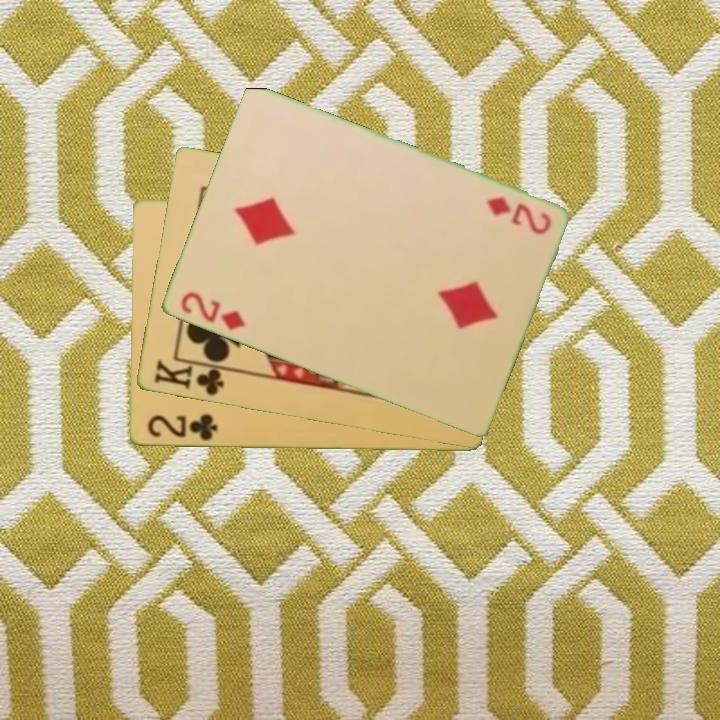2c: (143, 411, 219, 444)
2d: (176, 288, 248, 334), (482, 193, 554, 238)
Kc: (150, 356, 233, 399)
